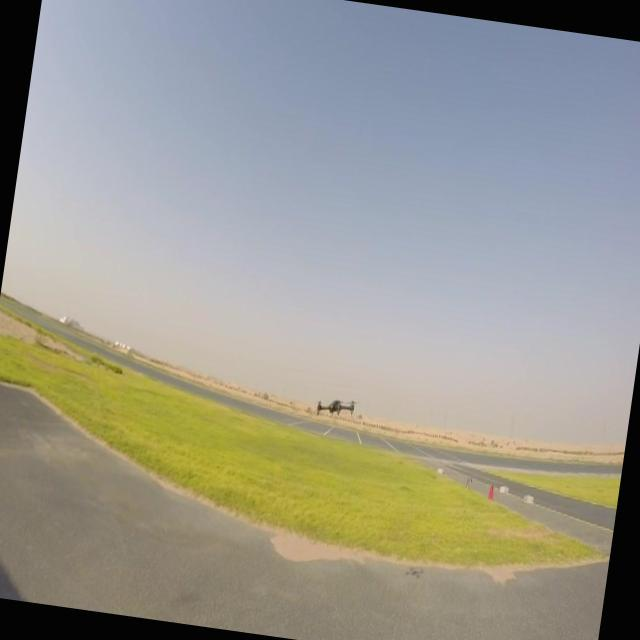drone: (316, 392, 358, 422)
